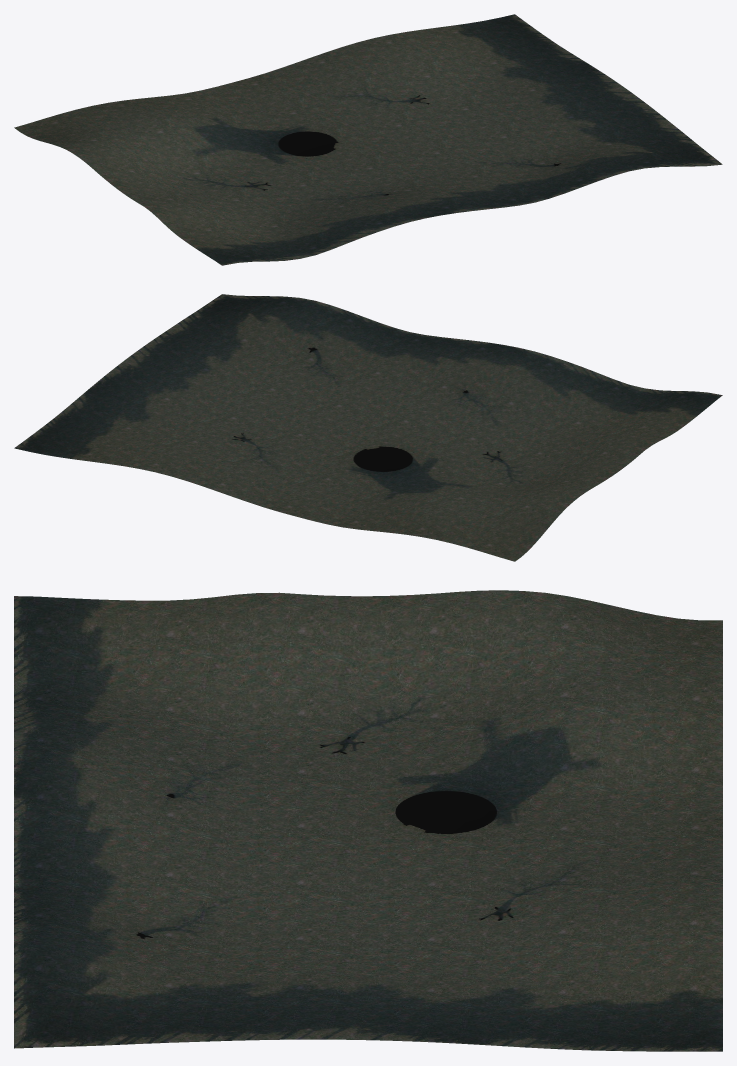
The model's file is scene_windmill_ground.glb.
The picture shows the model from 3 angles, top to bottom: view 1: azimuth 30°, elevation 25°; view 2: azimuth 150°, elevation 25°; view 3: azimuth 270°, elevation 25°; orthographic projection. The views are drawn at different scales.
Visible parts, largest first — view 1: grass; view 2: grass; view 3: grass.
Boxes of the visible parts, left/top/right/bottom form: grass: left=14, top=14, right=722, bottom=265; grass: left=14, top=294, right=722, bottom=561; grass: left=14, top=590, right=722, bottom=1051.
Size of the model in its own units: 68.96 by 3.49 by 49.62.
1 material, 1 textured.
